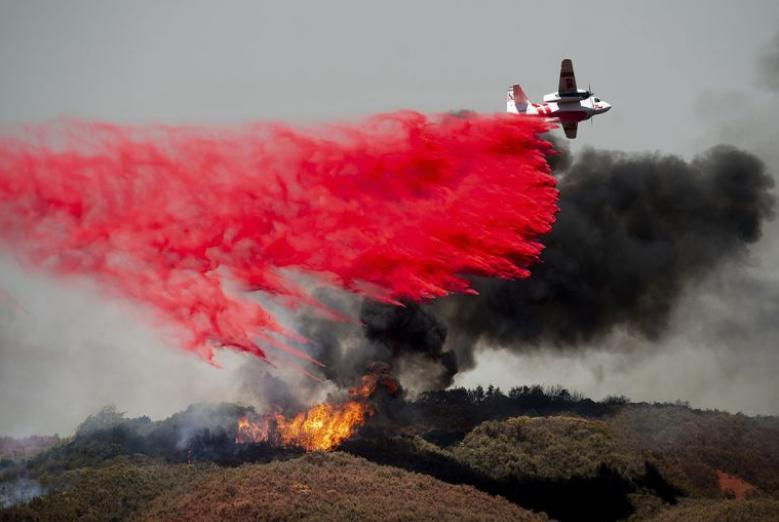fire: (225, 384, 358, 456)
